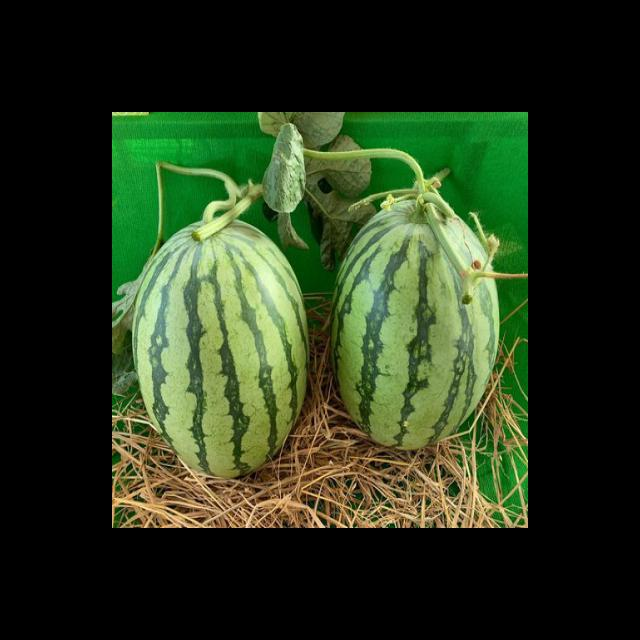watermelon: (131, 217, 310, 479), (329, 198, 500, 450)
